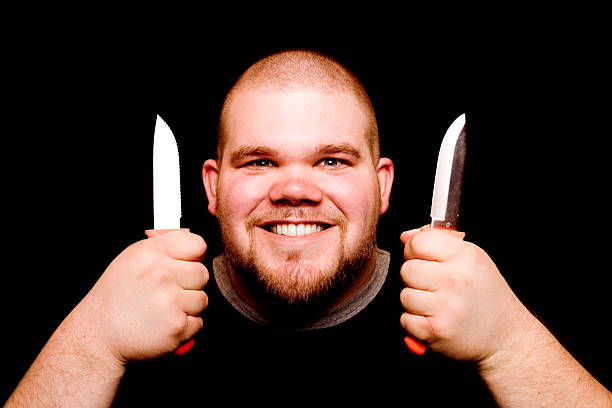knife: (394, 108, 470, 357), (141, 107, 205, 360)
